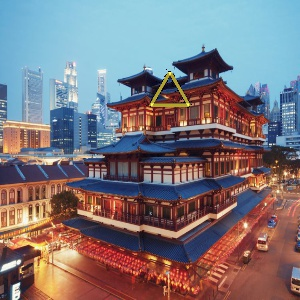triangle: (145, 67, 194, 109)
